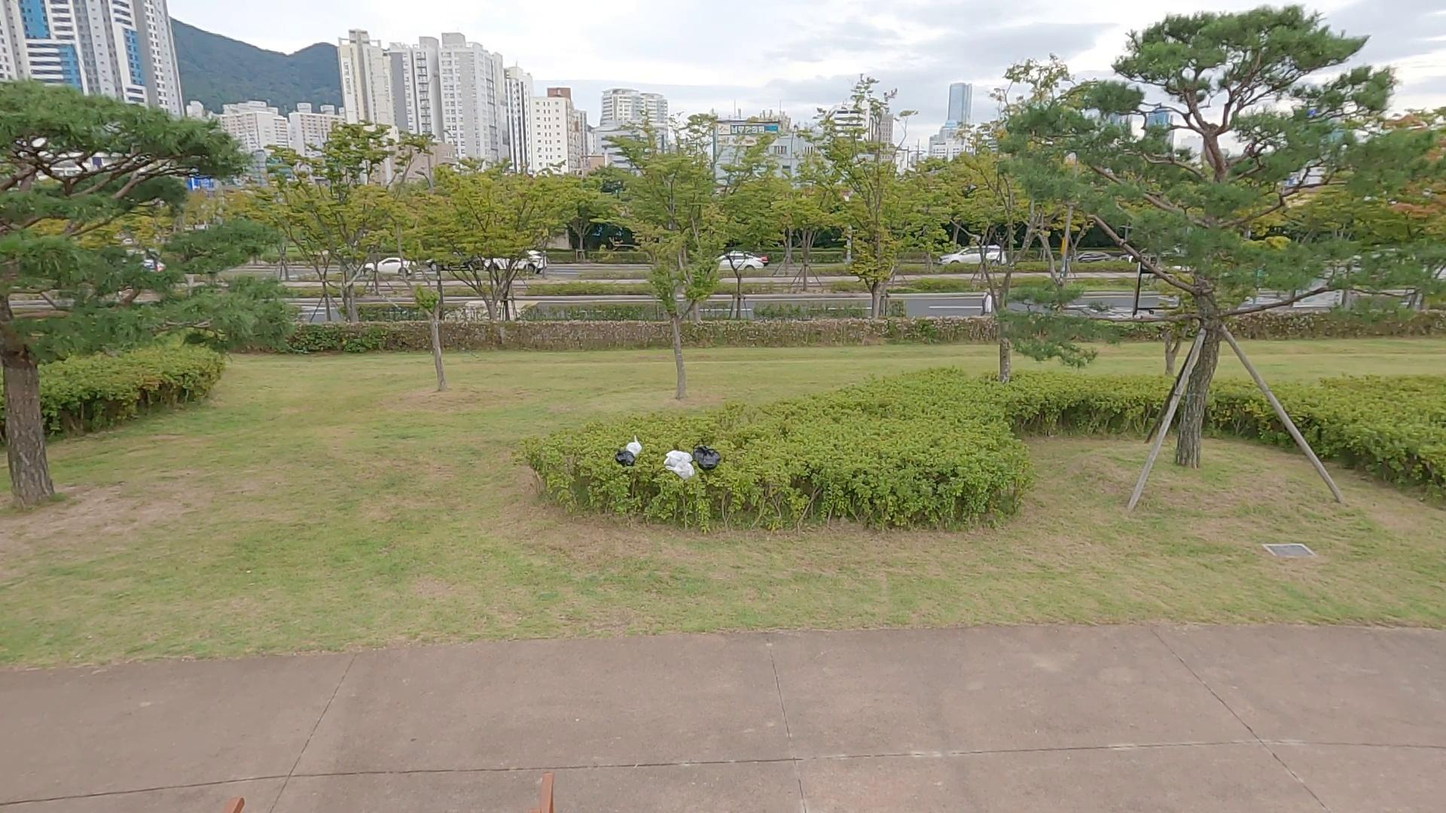trash: (691, 439, 721, 468), (666, 458, 695, 483), (668, 447, 693, 466), (626, 436, 644, 457), (617, 447, 636, 465)
